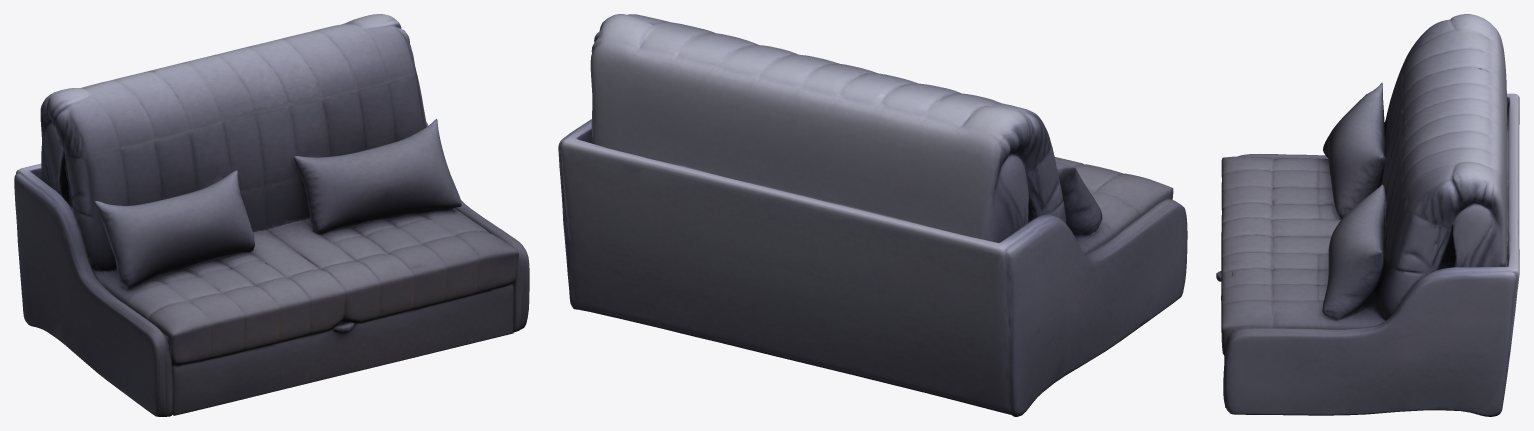
File: akk-fav.glb
3 views of the same model, side by side, from view 1: azimuth 30°, elevation 25°; view 2: azimuth 150°, elevation 25°; view 3: azimuth 270°, elevation 25° (orthographic). The views are drawn at different scales.
Parts seen in each view (by area): view 1: world; view 2: world; view 3: world.
Boxes of the visible parts, x1,y1,x2,y2 form: world: (14, 14, 529, 416); world: (558, 14, 1187, 416); world: (1216, 14, 1519, 416).
Bounding box in the file's own units: 0.9981 × 0.6072 × 0.6993.
1 material, 1 textured.
